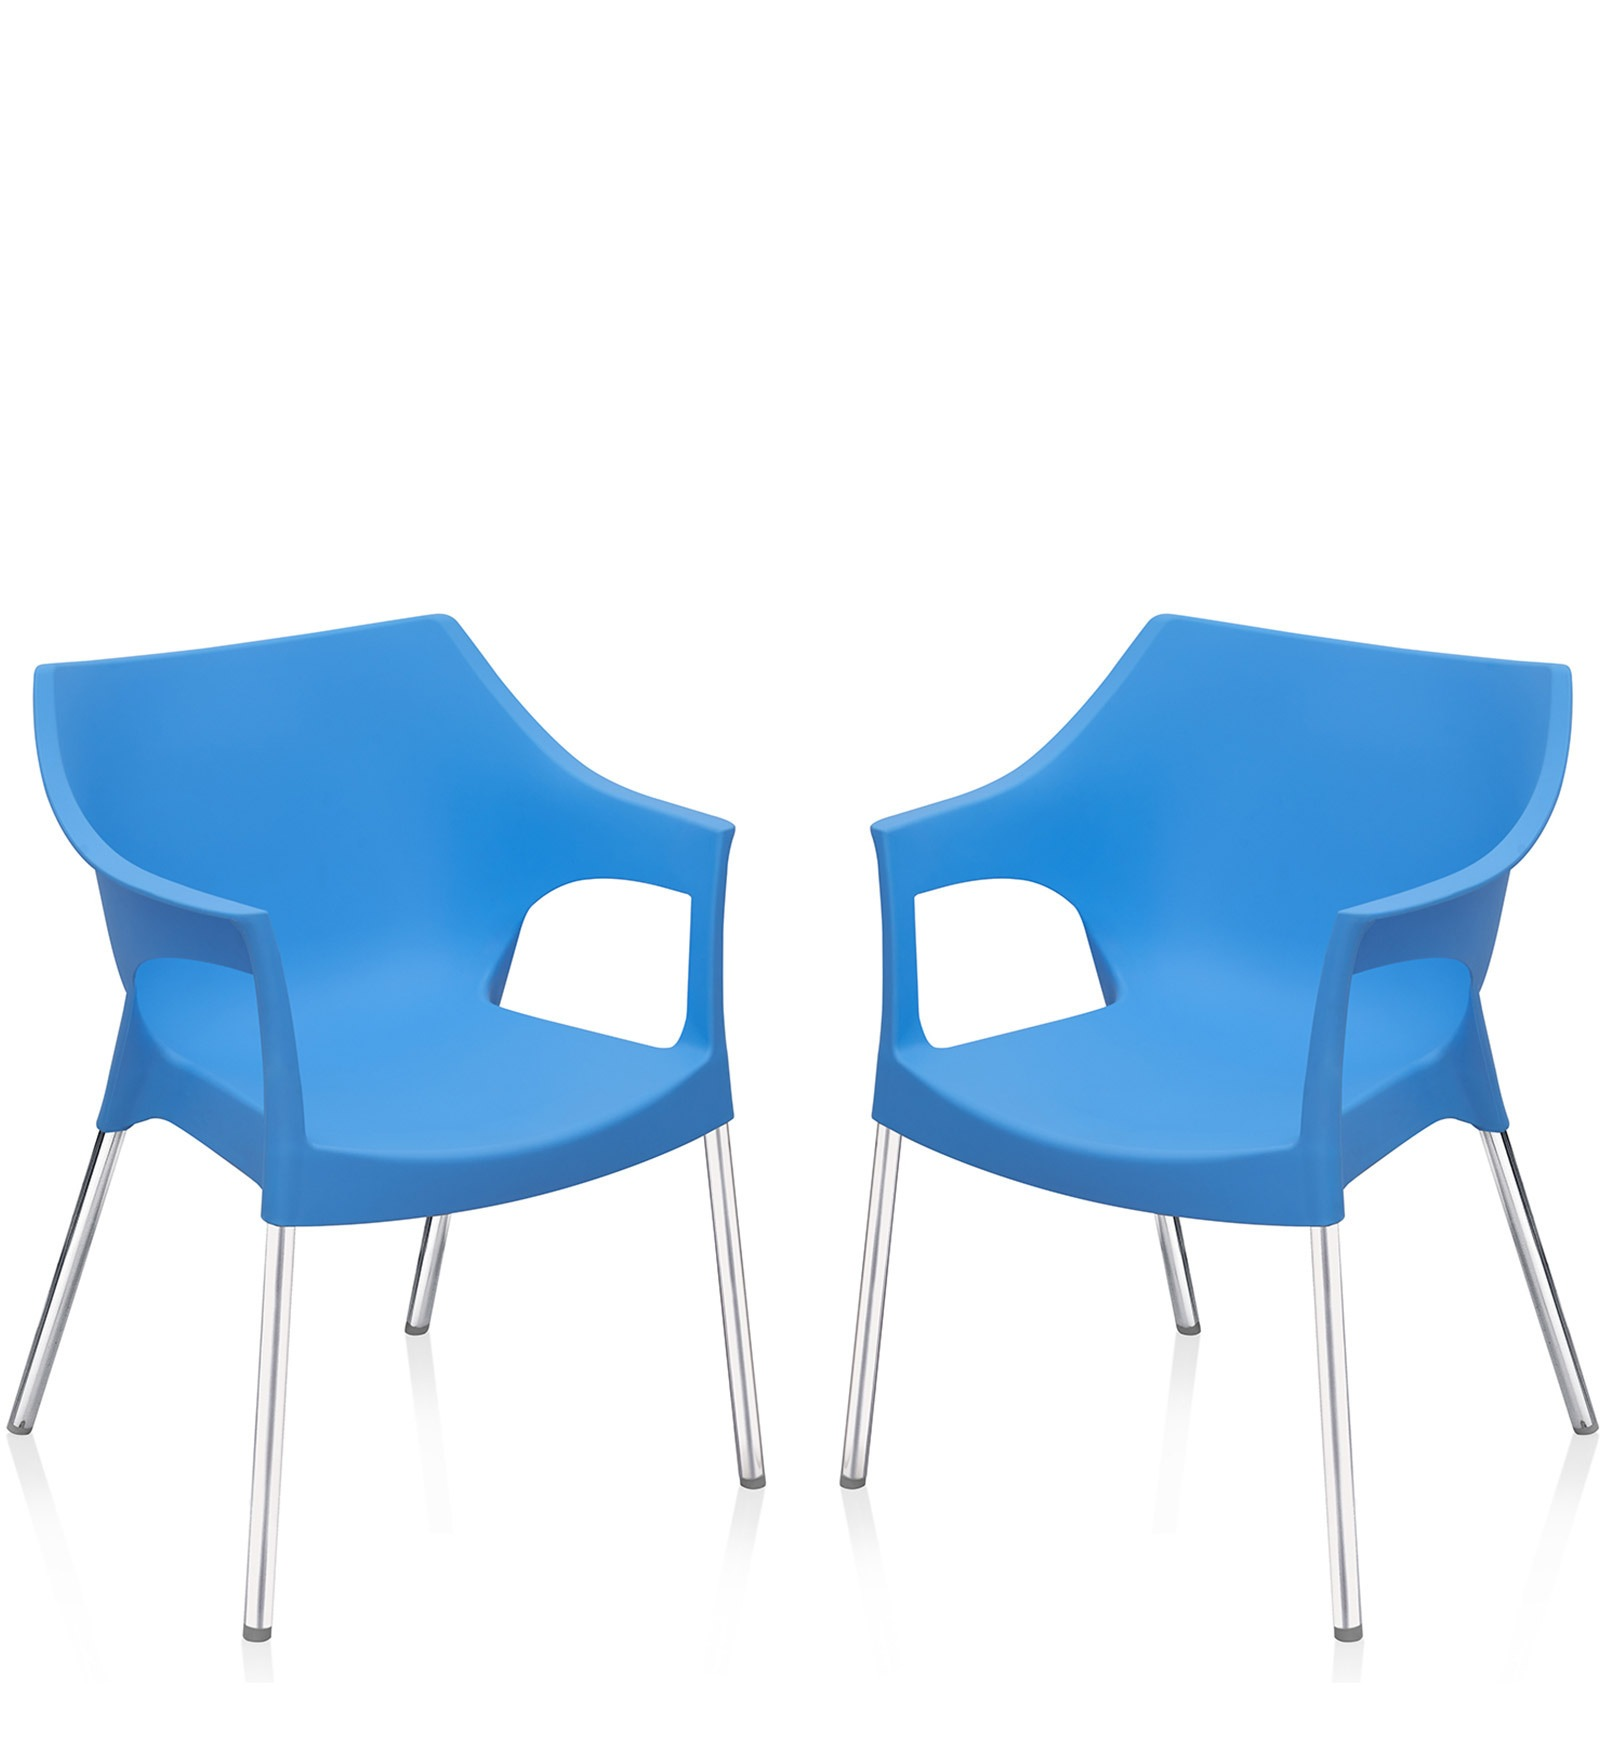Novella Series - 10 Set of 2 Chairs in Blue Colour by Nilkamal: (826, 599, 1600, 1647), (21, 604, 772, 1634)
